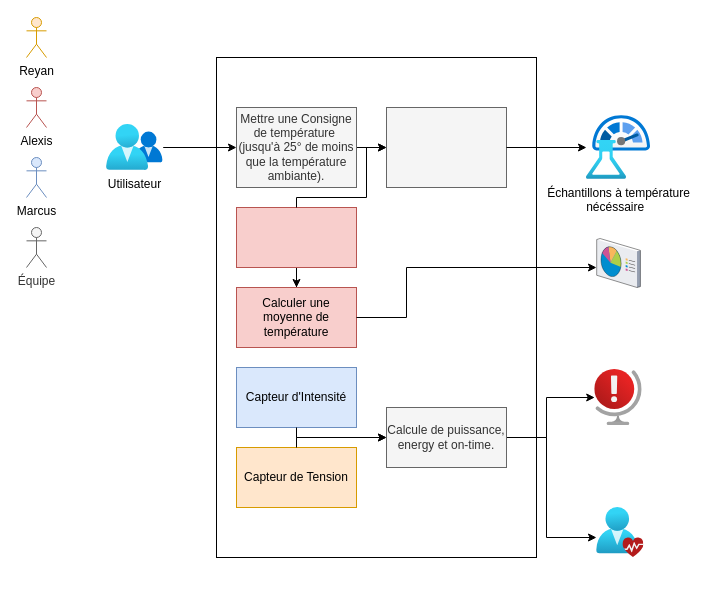
This 707x611 diagram has some shape labels left out. The centre of each missing label's shape, as x and y in pixels:
"Acquisition de la Température grâce a des capteurs" belongs at pixel 296 237.
"Affichage de la température" belongs at pixel 618 262.
"Asservissements de température avec boucle de rétroaction." belongs at pixel 446 147.
"Signalisation de niveau de charge" belongs at pixel 618 397.
"Utilisateur peut brancher la batterie rechargeable" belongs at pixel 619 532.
